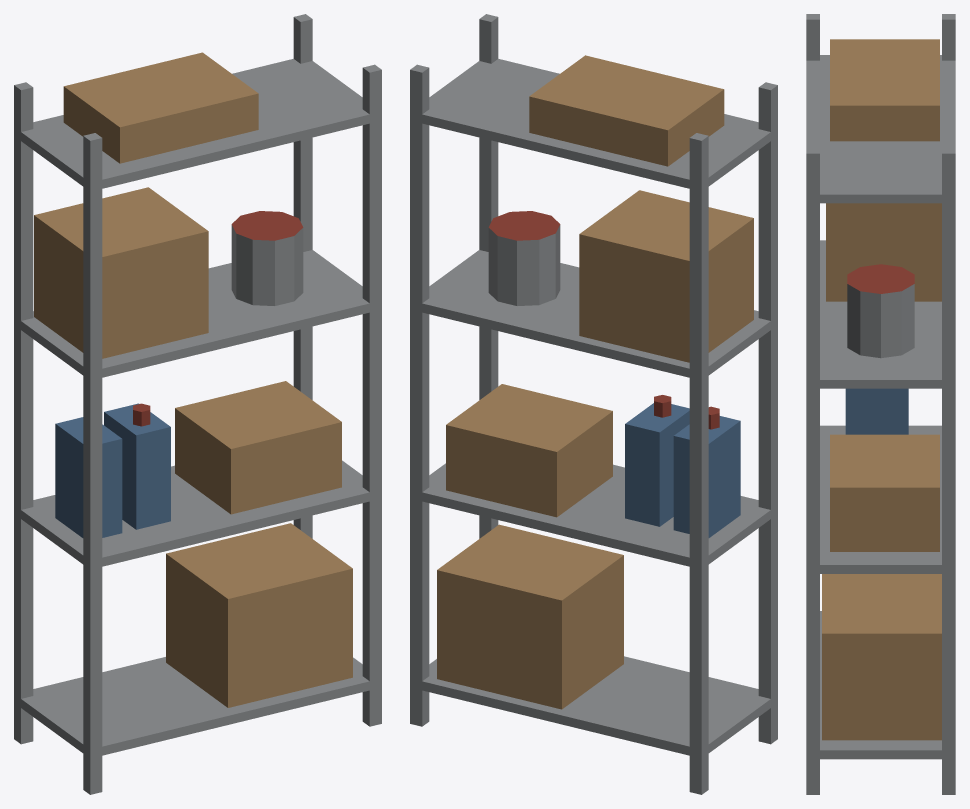
File: shelf.glb
3 views of the same model, side by side, from view 1: azimuth 30°, elevation 25°; view 2: azimuth 150°, elevation 25°; view 3: azimuth 270°, elevation 25° (orthographic).
Visible parts, largest first — view 1: shelf; view 2: shelf; view 3: shelf.
Boxes of the visible parts, x1,y1,x2,y2 form: shelf: (14,14,381,794); shelf: (410,14,777,794); shelf: (806,14,955,794).
Size of the model in its own units: 0.84 by 1.8 by 0.38.
